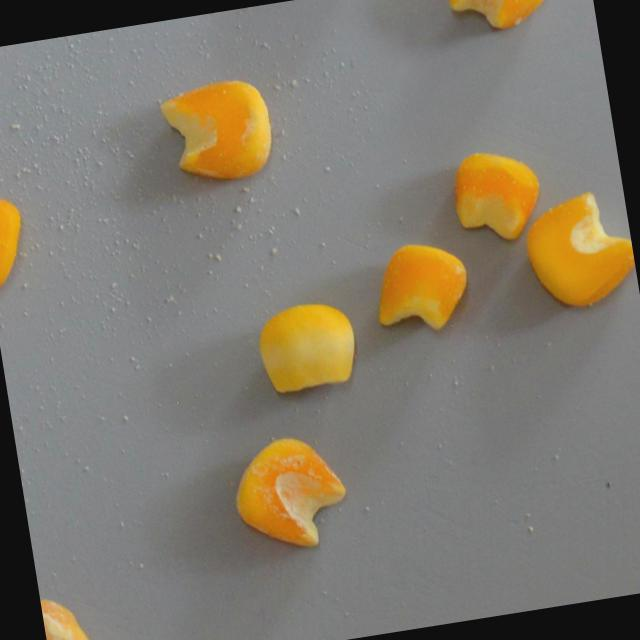dañado: (39, 586, 99, 640)
no_desgerminado: (518, 184, 640, 317), (444, 139, 548, 251)
pelicula: (222, 427, 358, 563), (154, 75, 282, 194), (365, 234, 476, 342), (444, 0, 557, 44), (0, 177, 34, 295)
